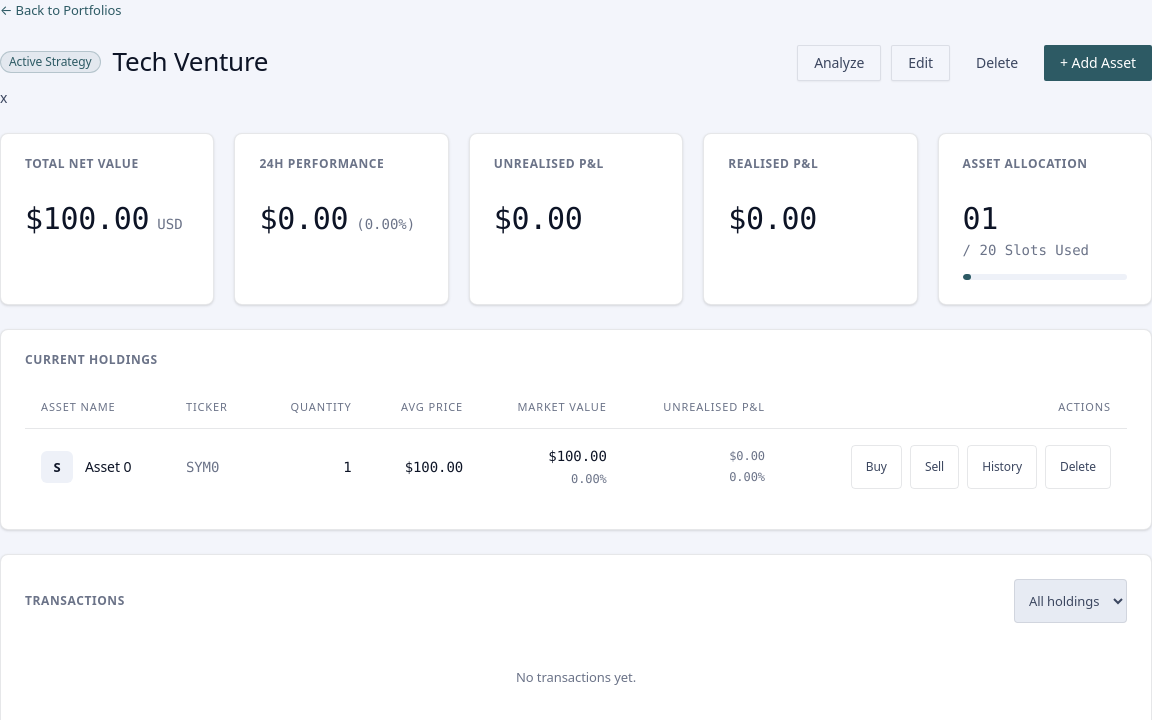
PortfolioDetailPage › opens the Buy form for a holding with its symbol locked
Click the button with aria-label "Buy SYM0": (876, 467) top-left (851, 445), bottom-right (902, 489)
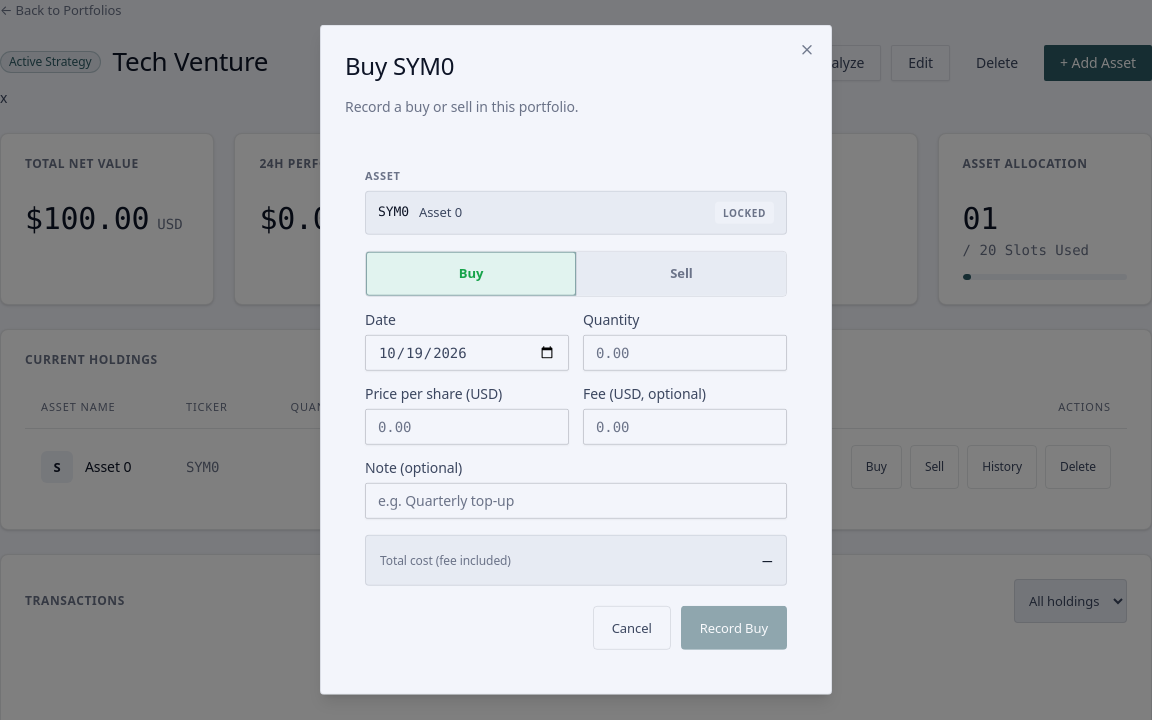
Expected: the heading "Buy SYM0" is shown, top-left (345, 49), bottom-right (454, 82)
Expected: the text "Locked" is shown, top-left (715, 202), bottom-right (774, 224)
